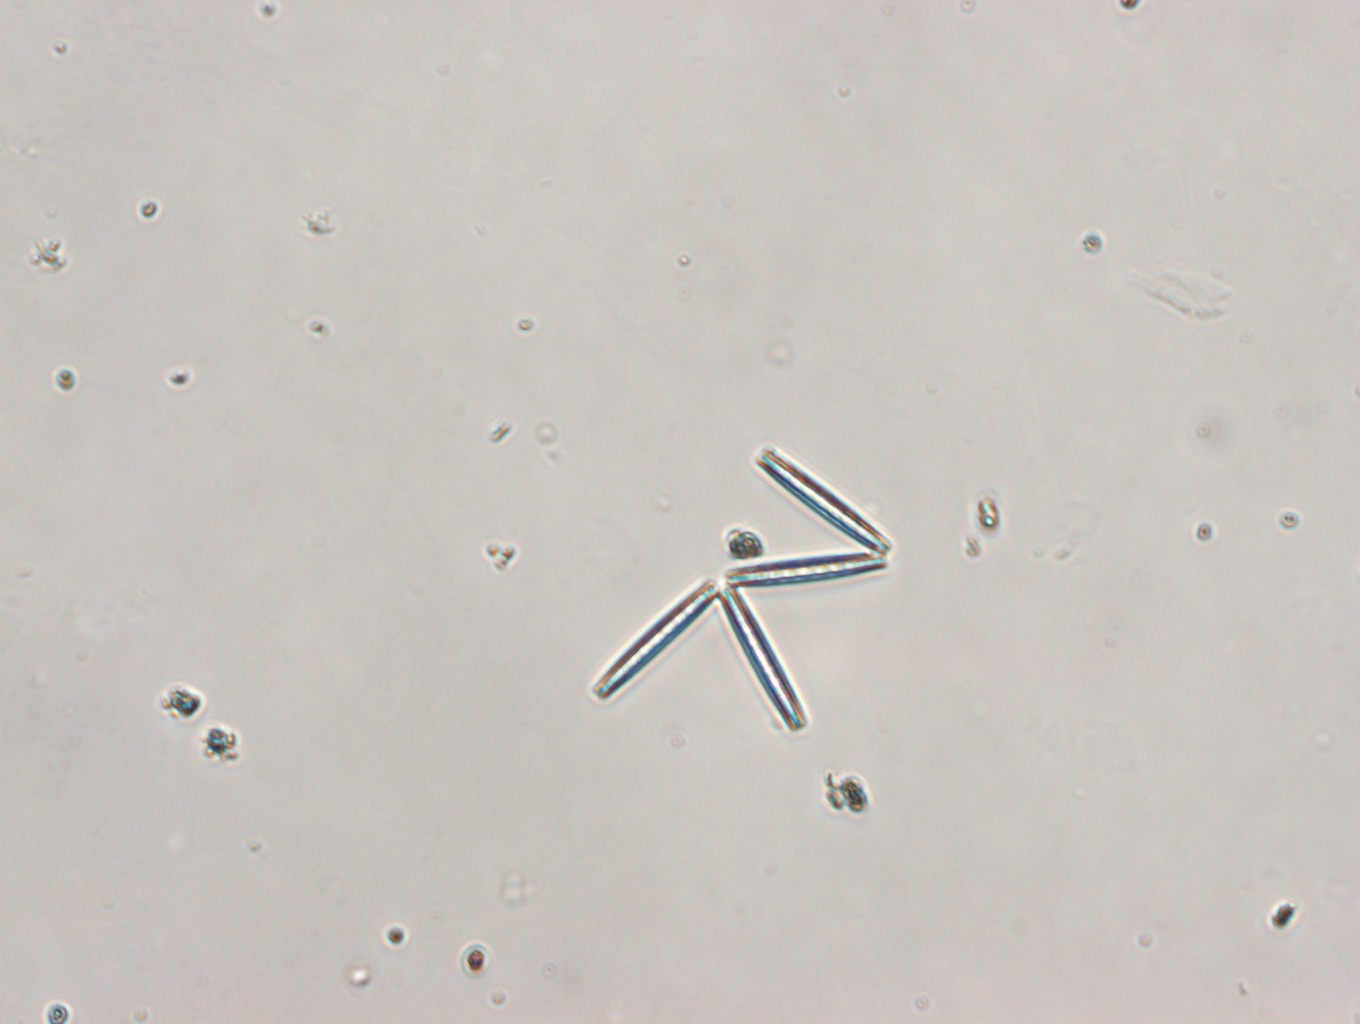thalassionema nitzschioides: (593, 439, 901, 733)
